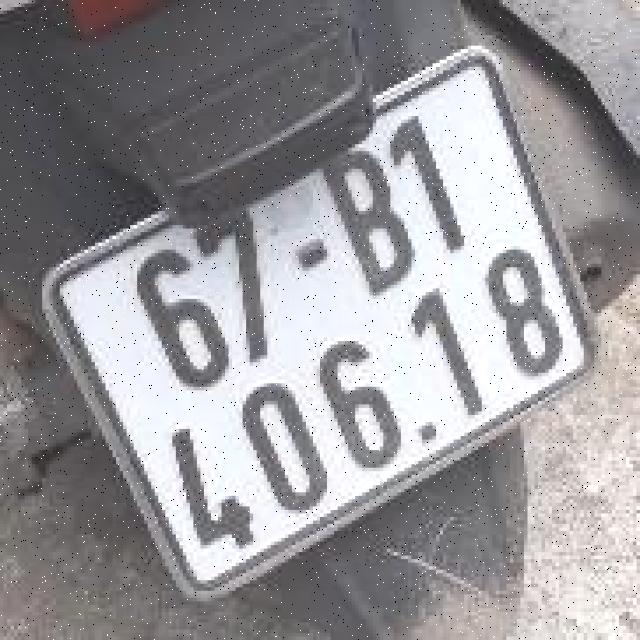0: (225, 371, 341, 526)
1: (380, 100, 489, 269), (392, 279, 509, 433)
4: (145, 408, 277, 569)
6: (119, 238, 245, 403)
7: (187, 198, 305, 370), (303, 328, 418, 481)
8: (470, 238, 573, 384)
B: (311, 133, 430, 307)
